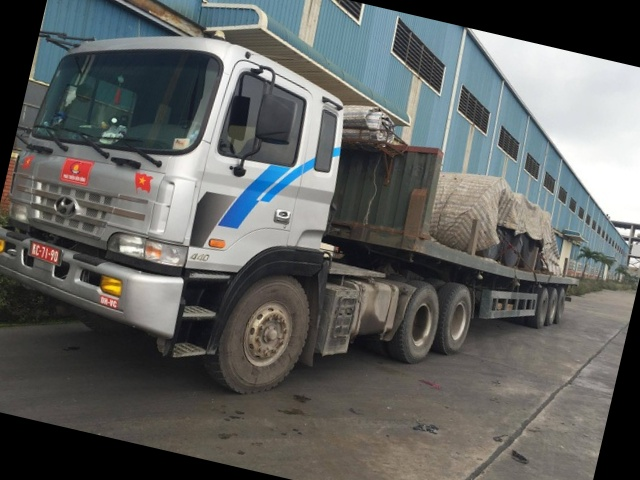plate: (28, 239, 60, 266)
